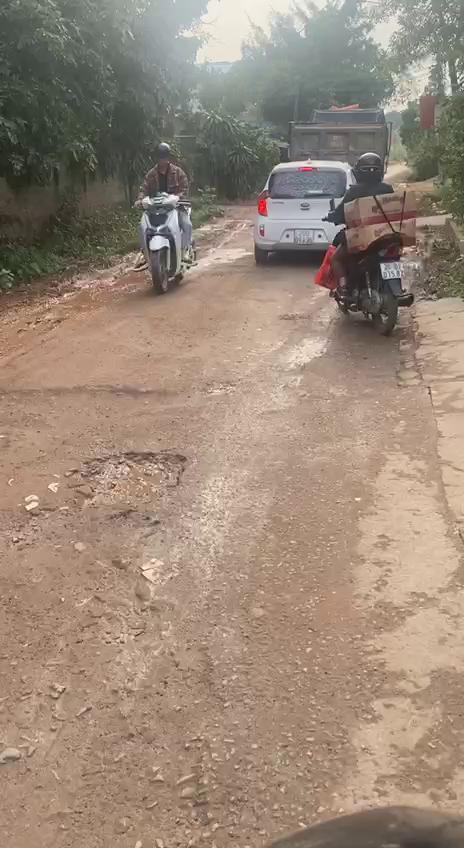pothole: (0, 451, 193, 564), (0, 380, 232, 453)
